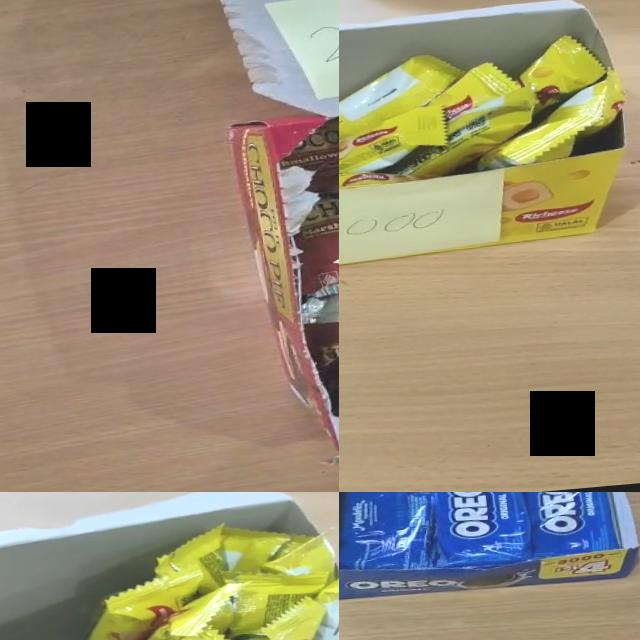Ahh: (466, 65, 631, 171), (339, 50, 472, 179), (376, 84, 545, 182), (339, 102, 450, 185), (514, 30, 612, 119), (85, 572, 198, 640), (418, 58, 526, 128), (231, 574, 325, 634), (147, 584, 240, 640), (155, 525, 224, 587), (237, 598, 323, 640), (220, 526, 287, 577), (263, 534, 333, 577), (339, 161, 422, 193), (312, 577, 339, 640)
Chocopie: (287, 184, 339, 305), (273, 110, 339, 201)
Oreo: (436, 492, 529, 565), (339, 492, 427, 569), (527, 492, 618, 556)
